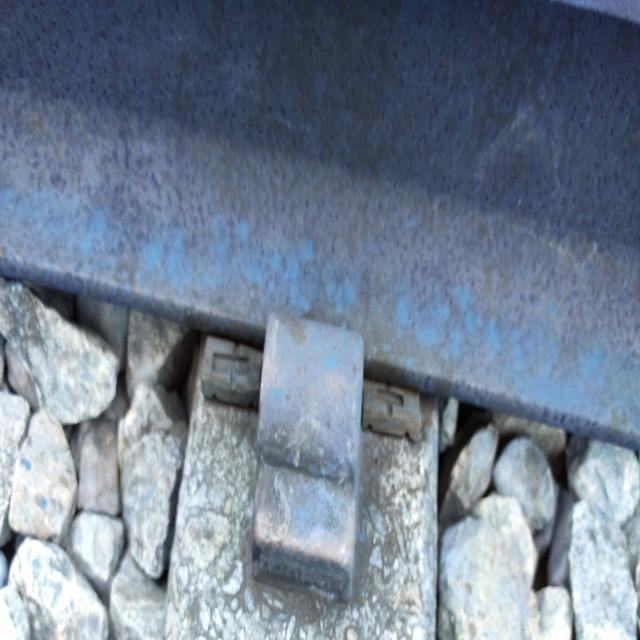Missing Fastener: (174, 284, 415, 640)
